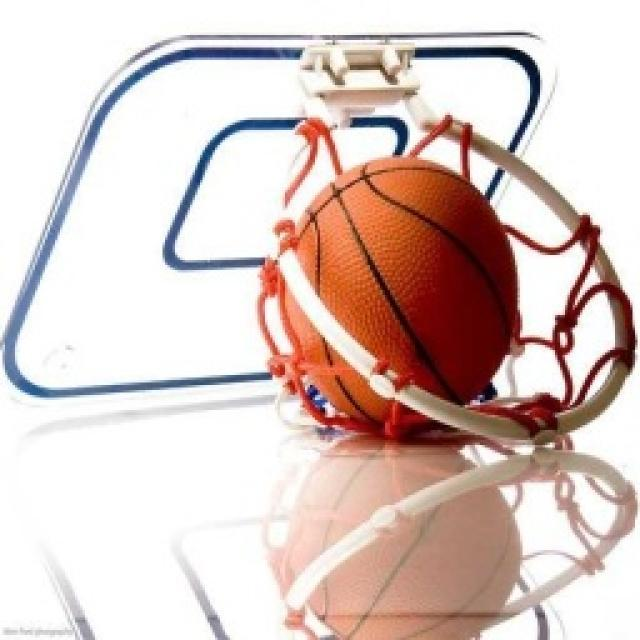rim: (274, 144, 521, 424)
